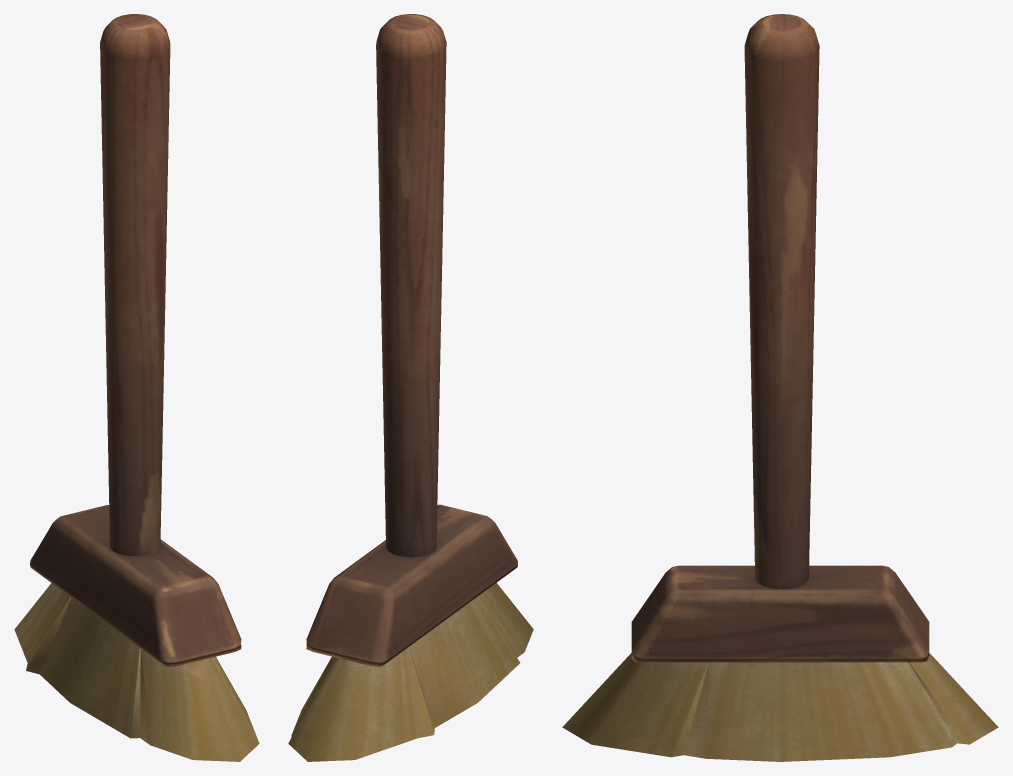
The model's file is SM_Brush.fbx.
3 renders of one model, left to right at view 1: azimuth 30°, elevation 25°; view 2: azimuth 150°, elevation 25°; view 3: azimuth 270°, elevation 25°, orthographic. The views are drawn at different scales.
Parts seen in each view (by area): view 1: SM_Brush_LOD0; view 2: SM_Brush_LOD0; view 3: SM_Brush_LOD0.
Part boxes in pixels (x1,y1,x2,y2): SM_Brush_LOD0: (14,14,259,761); SM_Brush_LOD0: (288,14,533,761); SM_Brush_LOD0: (562,14,998,761).
Bounding box in the file's own units: 11.99 × 31.91 × 56.92.
1 material, 1 textured.
